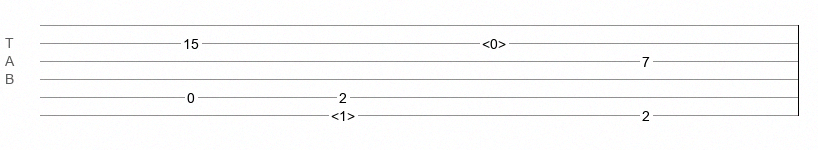0: (187, 90, 195, 100)
15: (183, 36, 199, 46)
2: (339, 90, 347, 100), (642, 108, 650, 118)
7: (642, 54, 650, 64)
harmonic: (331, 108, 355, 118), (482, 36, 506, 46)
